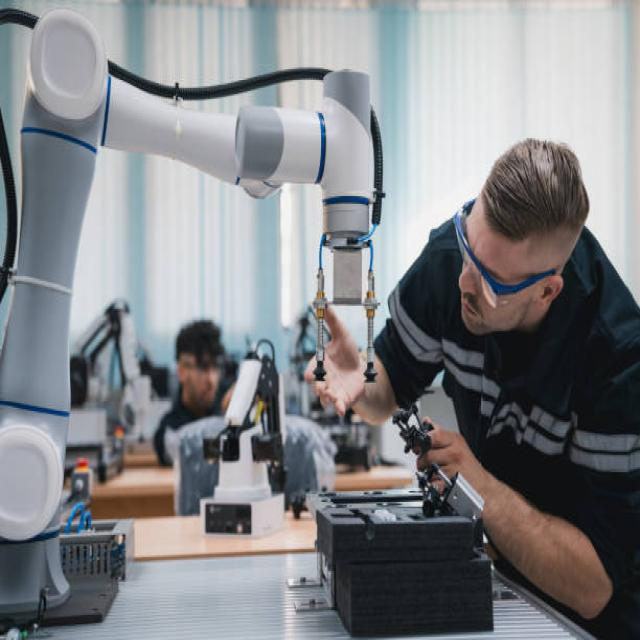Robotic-arm: (2, 0, 376, 578)
